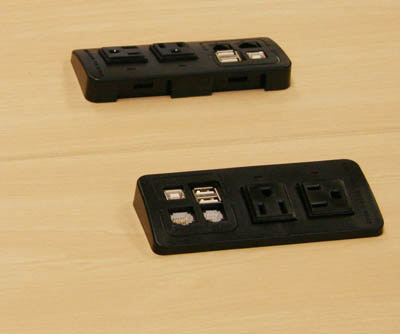outlet: (304, 179, 345, 211), (252, 186, 290, 217), (106, 41, 143, 60), (154, 40, 187, 57)
